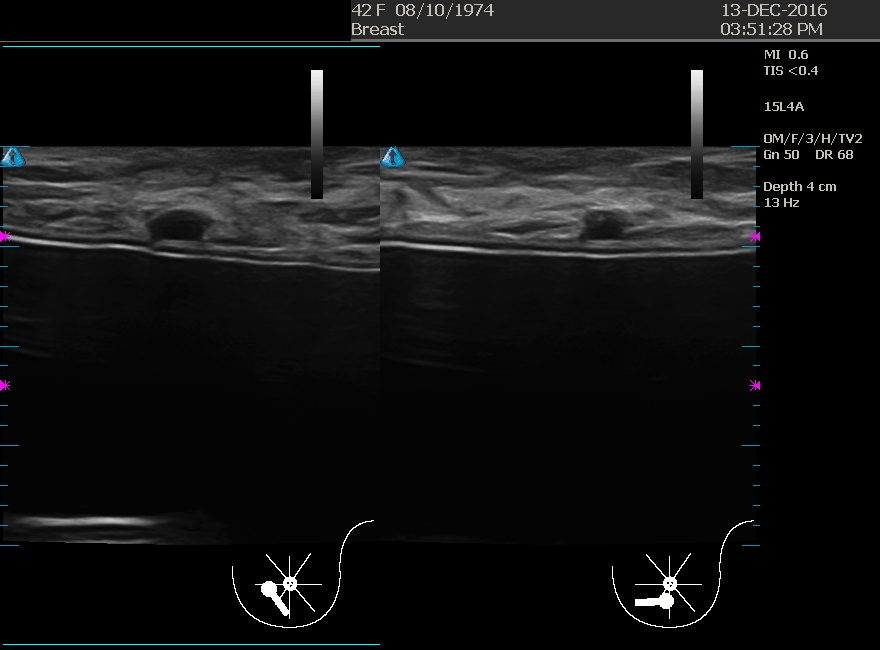BIRADS_2: (76, 166, 277, 366), (439, 152, 639, 352)
